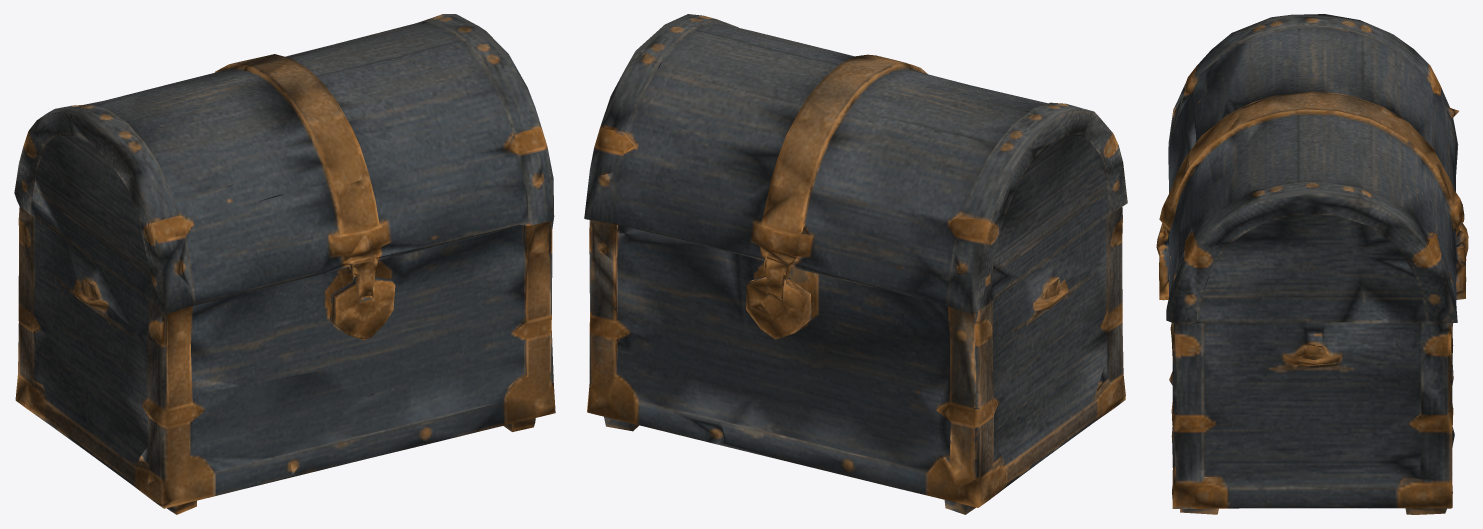
Rendered from chest.glb.
3 views of the same model, side by side, from view 1: azimuth 30°, elevation 25°; view 2: azimuth 150°, elevation 25°; view 3: azimuth 270°, elevation 25° (orthographic). The views are drawn at different scales.
Visible parts, largest first — view 1: Mesh_0.001; view 2: Mesh_0.001; view 3: Mesh_0.001.
Part boxes in pixels (bbox=[...]): Mesh_0.001: bbox=[14, 14, 555, 514]; Mesh_0.001: bbox=[584, 14, 1127, 514]; Mesh_0.001: bbox=[1156, 14, 1468, 514].
Bounding box in the file's own units: 1.9 × 1.54 × 1.32.
1 material, 1 textured.
